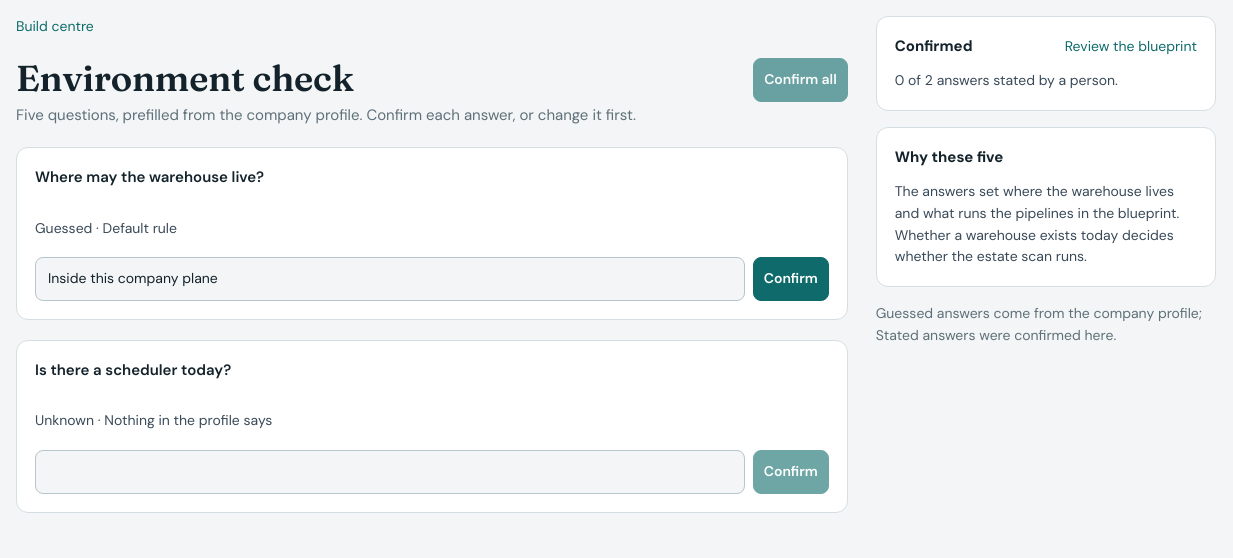
Build Centre › environment: marks and sources show, Confirm sends the answer and turns it stated
Expected: the text "Guessed · Default rule" is shown, x1=35 y1=218 x2=177 y2=236
Expected: the text "Unknown · Nothing in the profile says" is shown, x1=35 y1=411 x2=272 y2=429
Type "A cron" into the field labelled "Is there a scheduler today?" at (390,472), box x1=35 y1=450 x2=745 y2=494
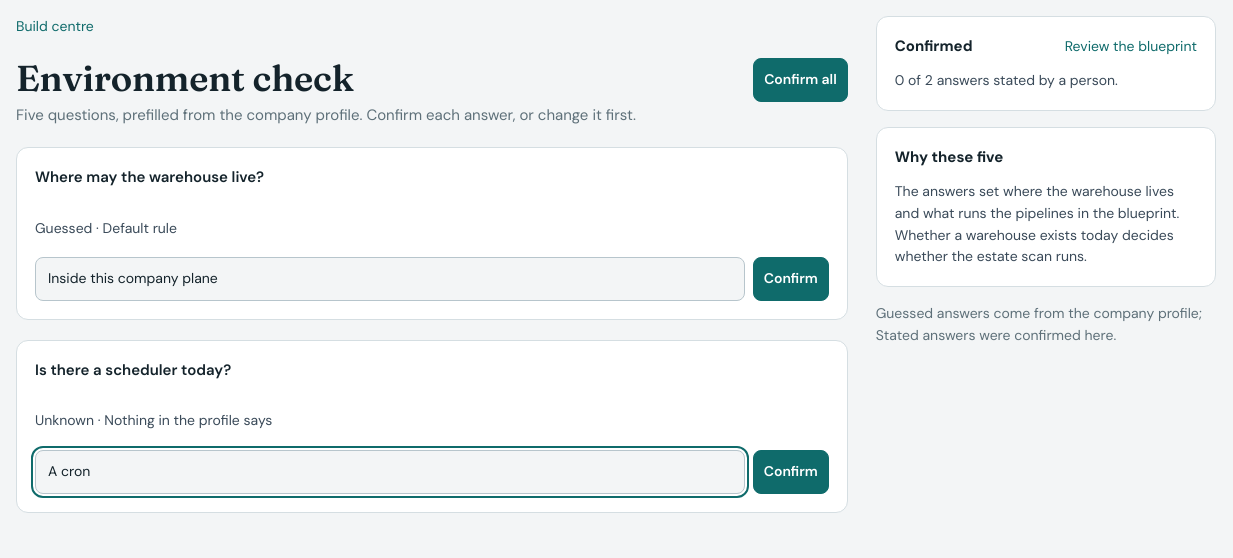
Click the button with aria-label "Confirm: Is there a scheduler today?" at (791,472), box x1=753 y1=450 x2=829 y2=494
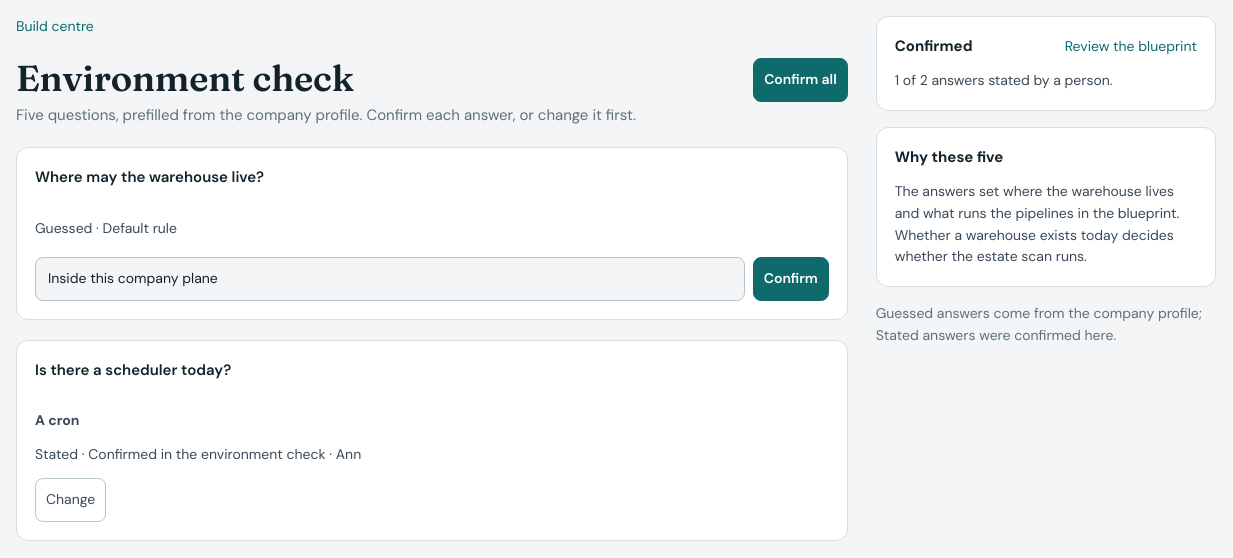
Expected: the text "Stated · Confirmed in the environment check · Ann" is shown, x1=35 y1=445 x2=361 y2=463
Expected: the text "A cron" is shown, x1=35 y1=411 x2=80 y2=429
Click the button with aria-label "Change: Is there a scheduler today?" at (71,500), box x1=35 y1=478 x2=106 y2=522
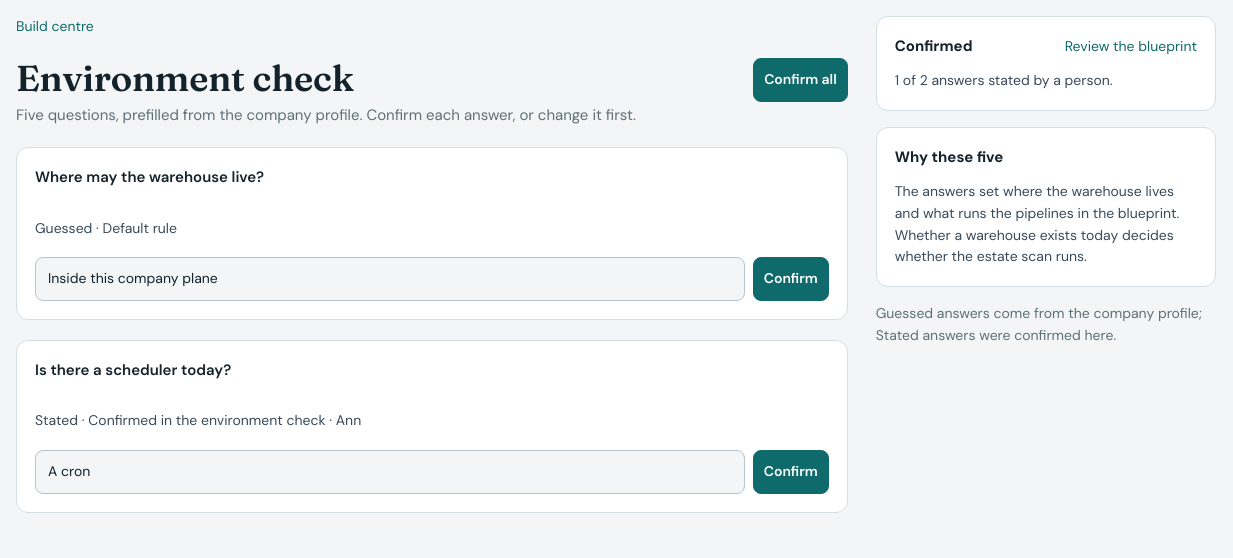
Expected: the field labelled "Is there a scheduler today?" holds "A cron", x1=35 y1=450 x2=745 y2=494
